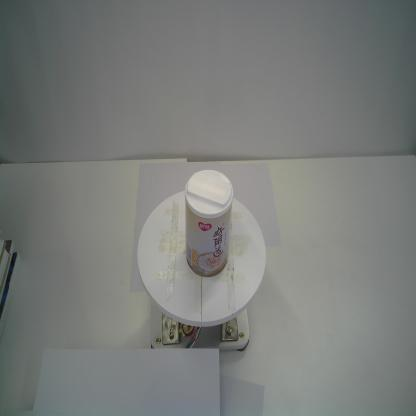Canned Food: (182, 167, 235, 282)
